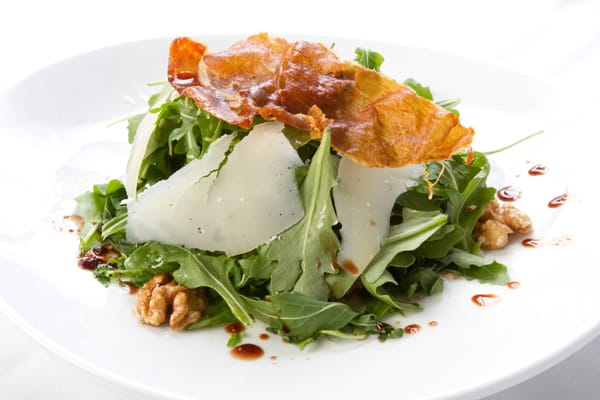soup: (75, 30, 537, 350)
